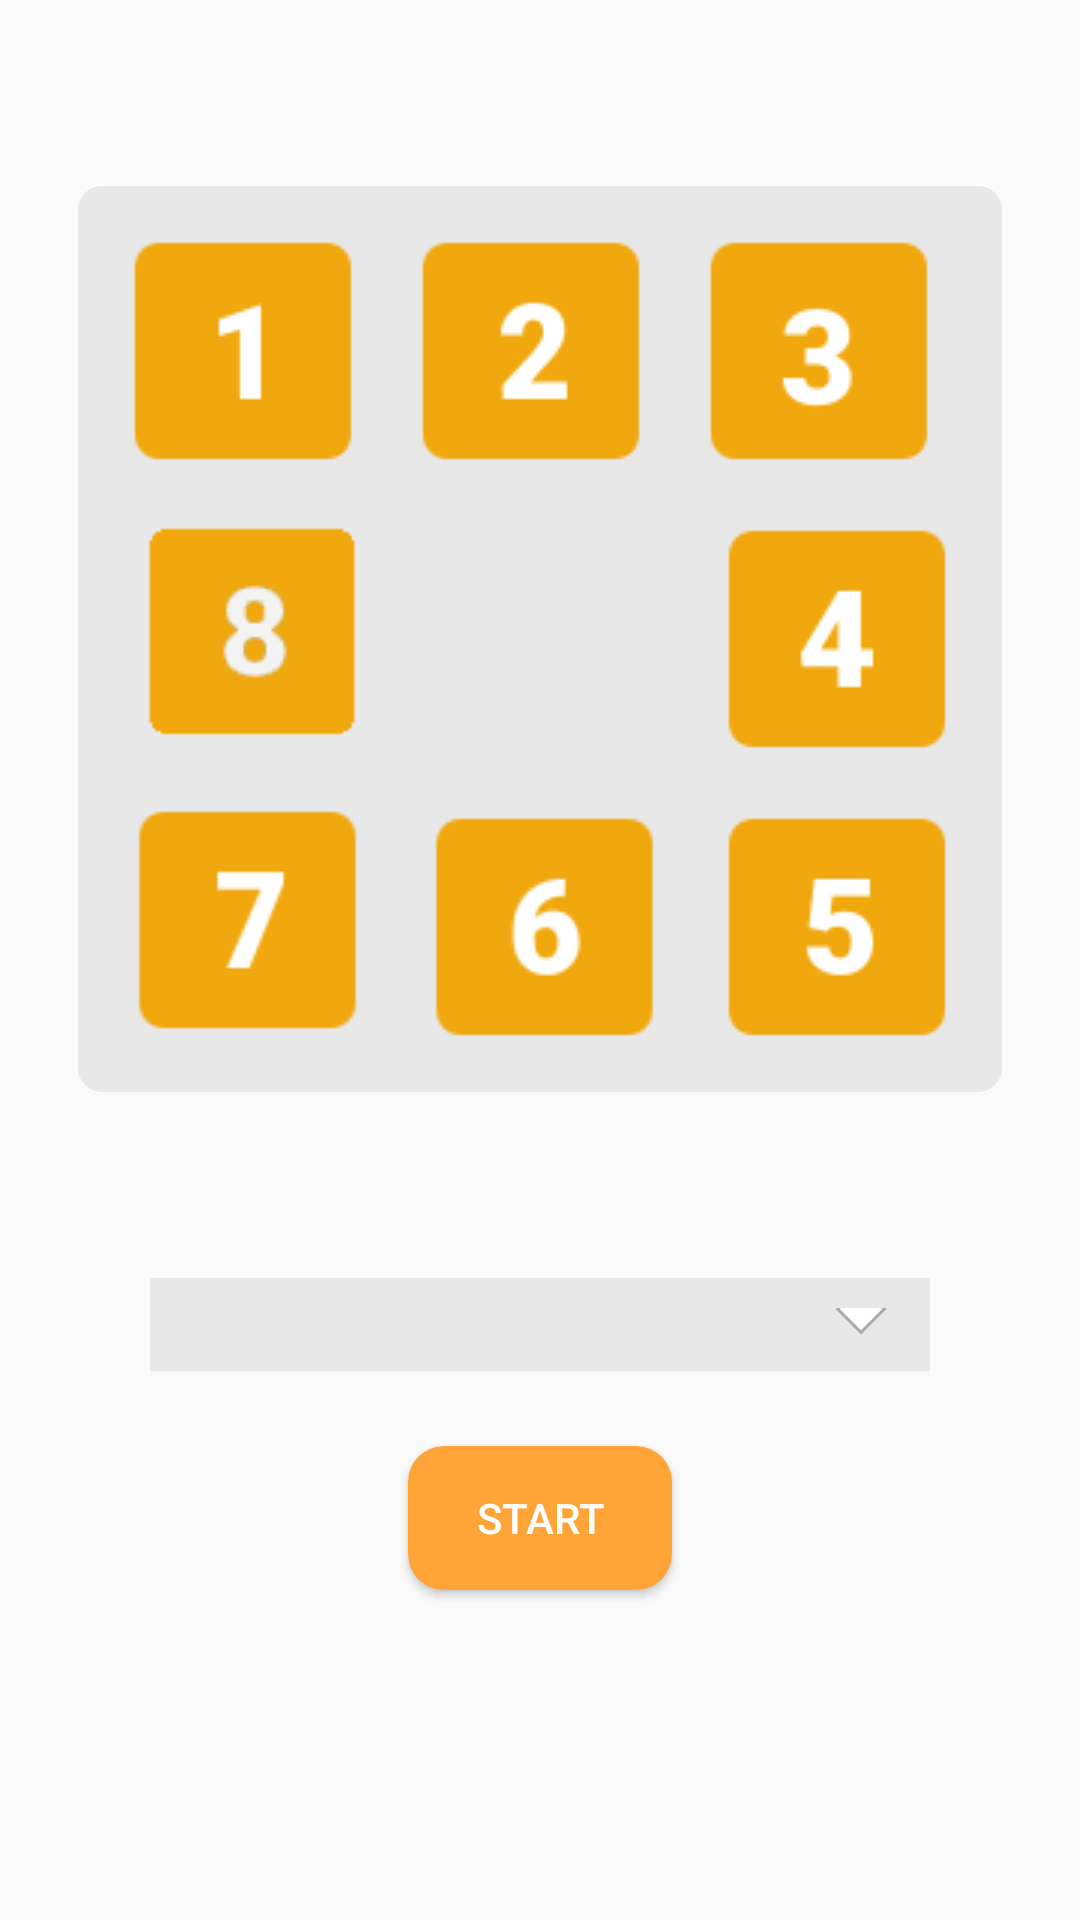

Named icons in this screenshot (1080*1920) and their centers, [x,y]:
number: [243,351], [531,351], [819,351], [252,631], [837,639], [247,920], [544,927], [837,927]
